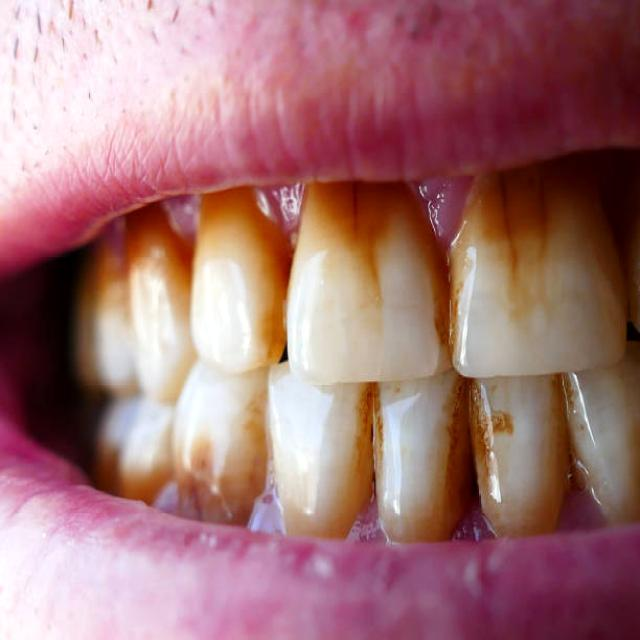tooth-discoloration: (450, 155, 626, 379), (287, 182, 448, 383), (190, 189, 291, 372), (268, 363, 372, 537), (174, 359, 267, 522), (128, 206, 196, 403)
